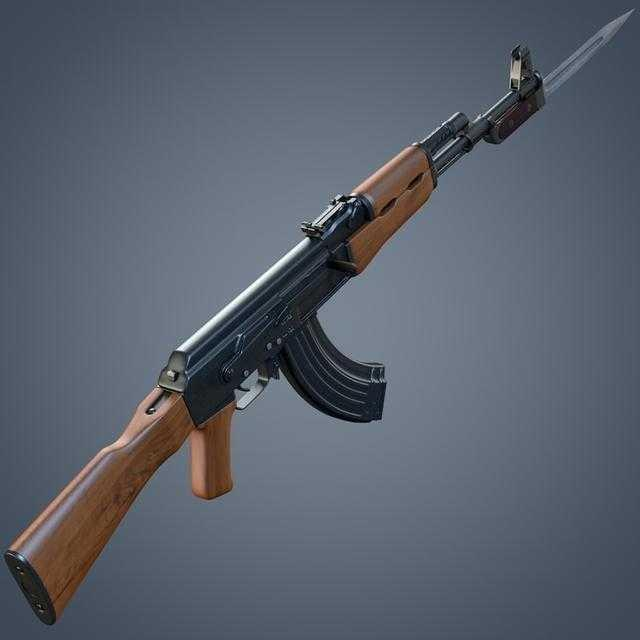weapon: (9, 33, 564, 640)
